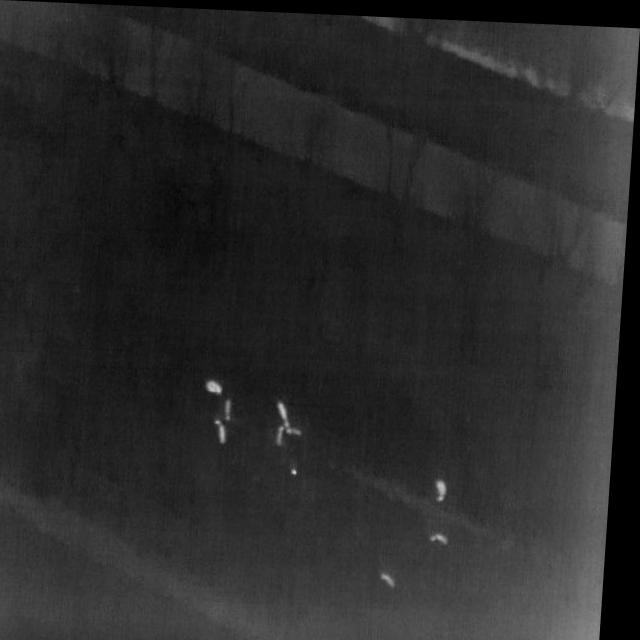deer: (282, 398, 297, 425), (219, 418, 233, 441), (442, 474, 454, 498), (436, 528, 457, 541), (387, 569, 404, 584), (211, 379, 229, 392), (290, 425, 309, 435), (282, 423, 291, 444), (229, 397, 237, 419)
